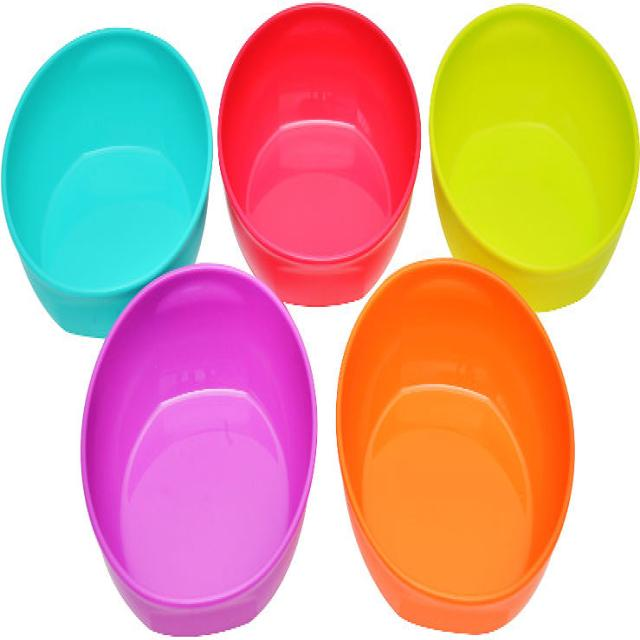Bowl: (76, 269, 323, 637), (336, 264, 579, 637), (2, 26, 215, 347), (219, 2, 422, 308), (432, 3, 634, 310)
